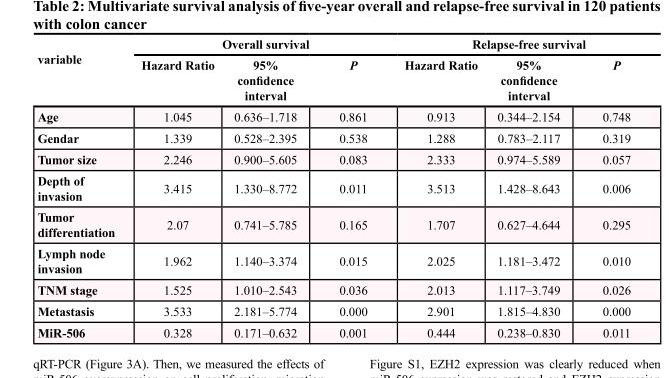table: (36, 36, 630, 339)
table column: (385, 36, 486, 339), (127, 36, 223, 339), (223, 36, 317, 339), (486, 36, 580, 339), (36, 36, 127, 339), (317, 36, 385, 339), (580, 36, 630, 339)
table column header: (36, 36, 630, 105)
table row: (36, 54, 630, 105), (36, 205, 630, 242), (36, 169, 630, 205), (36, 242, 630, 278), (36, 126, 630, 148), (36, 278, 630, 300), (36, 105, 630, 126), (36, 148, 630, 169), (36, 300, 630, 321), (36, 36, 630, 54), (36, 321, 630, 339)
table spanning cell: (36, 36, 127, 105), (127, 36, 385, 54), (385, 36, 630, 54)
